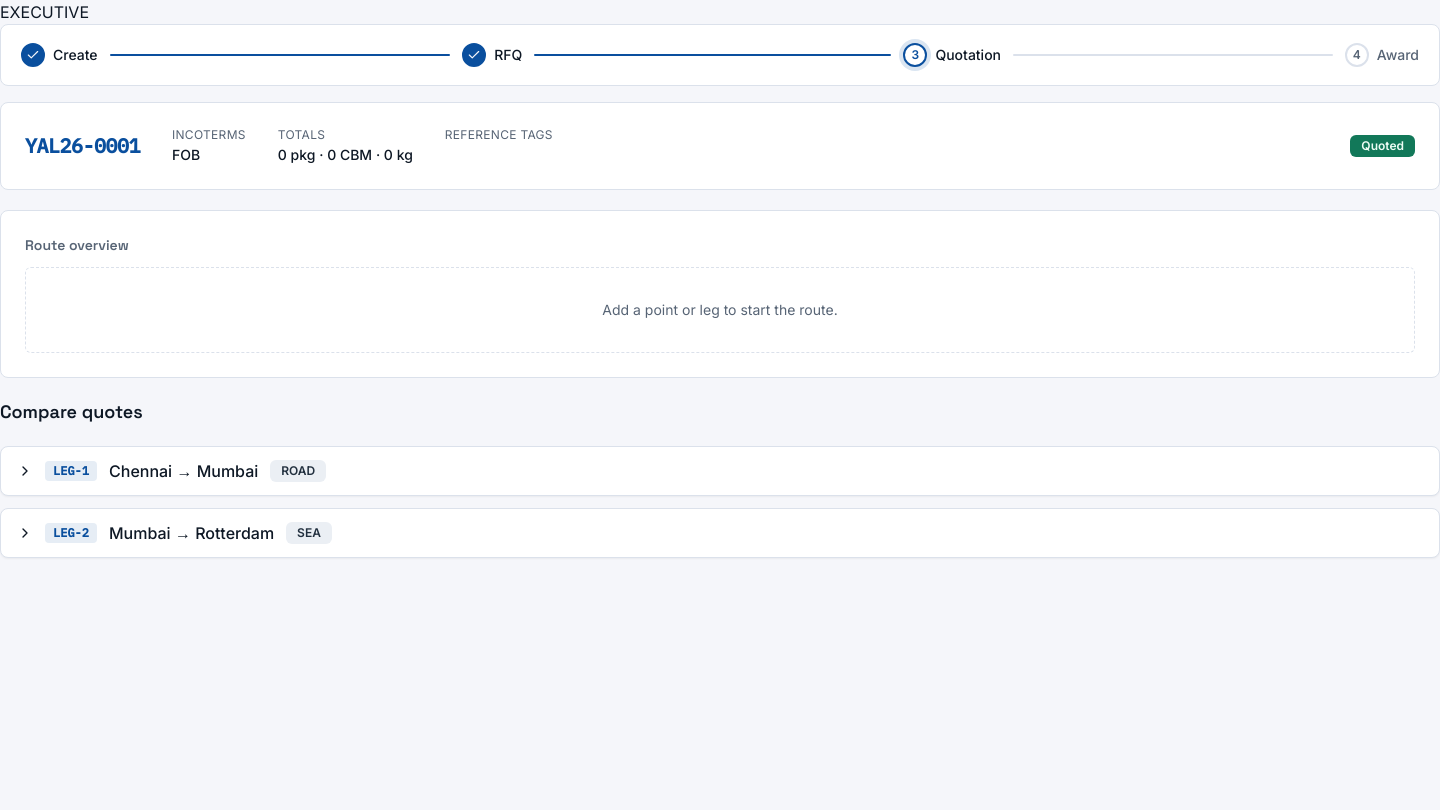
Test: CompareQuotesPage › compare screen as EXECUTIVE › shows the grid
Expected: the text "EXECUTIVE" is shown, [0,2,89,22]
Click the button "LEG-1 Chennai → Mumbai ROAD" at {"x": 71, "y": 471}, box [1,447,1439,495]
(page scrolled)
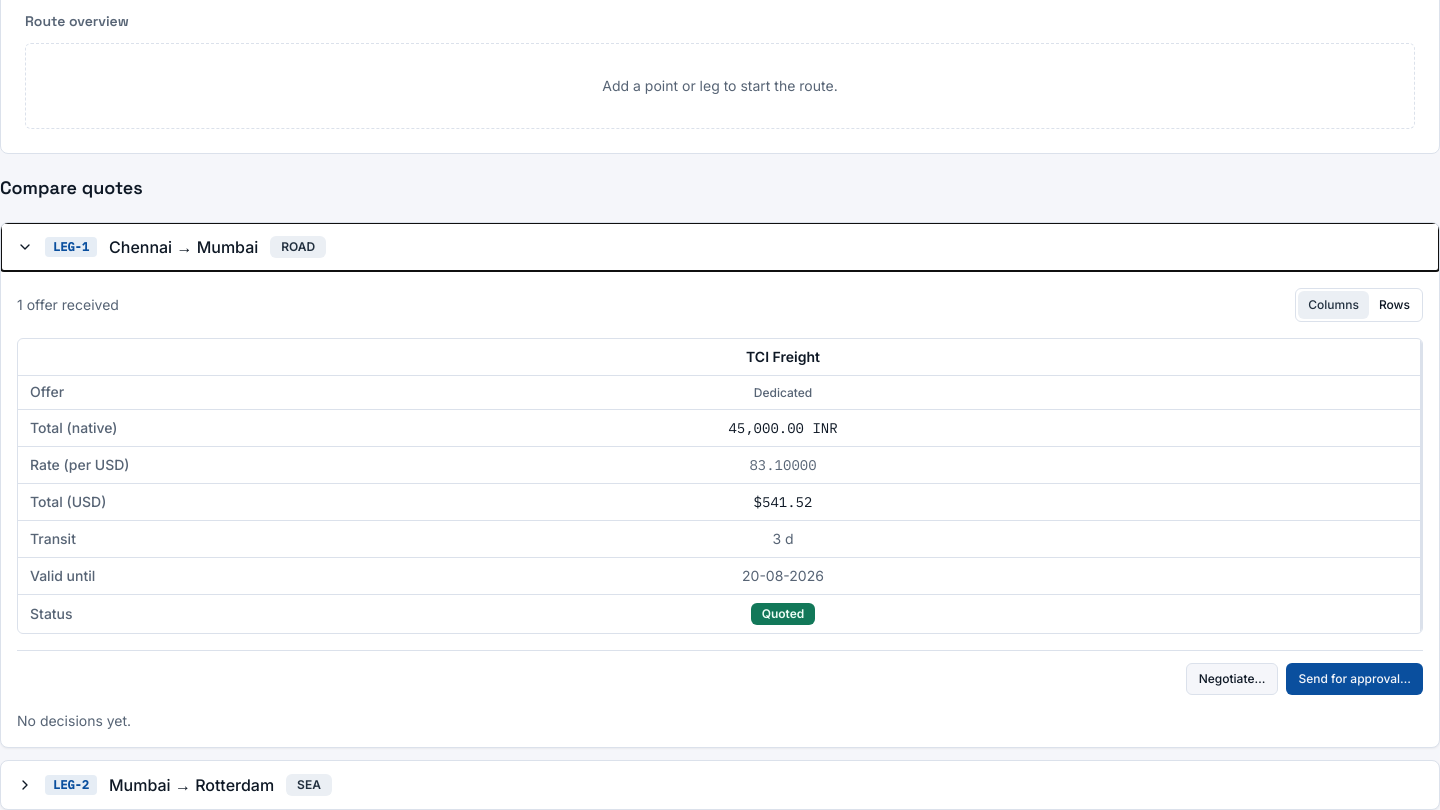
Expected: the element with test id "leg-body" is shown, [1,271,1439,746]
Expected: the element with test id "comparison-grid" is shown, [17,338,1423,634]
